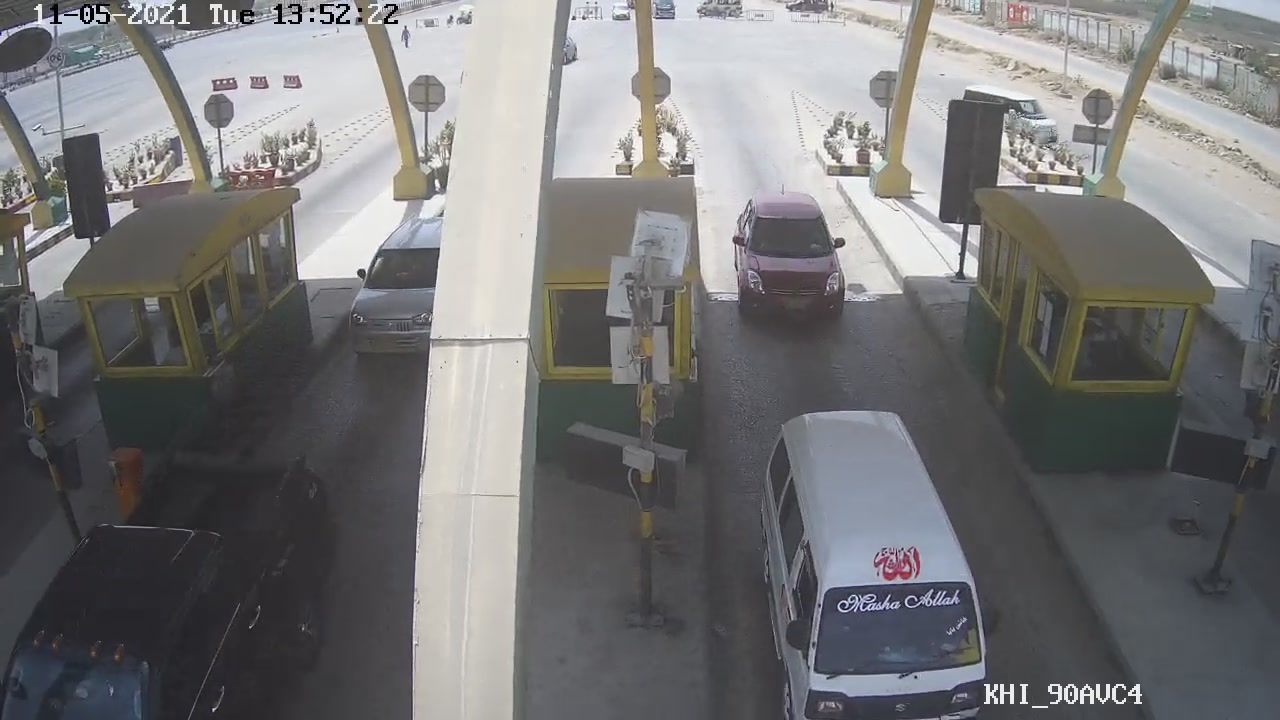F1: (729, 181, 854, 337)
